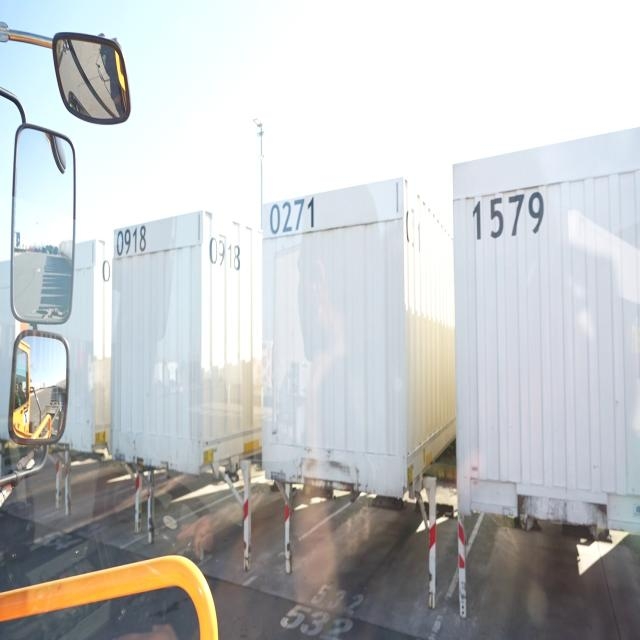Code: (467, 188, 550, 245), (266, 195, 318, 236), (207, 228, 245, 276), (115, 222, 153, 255)
